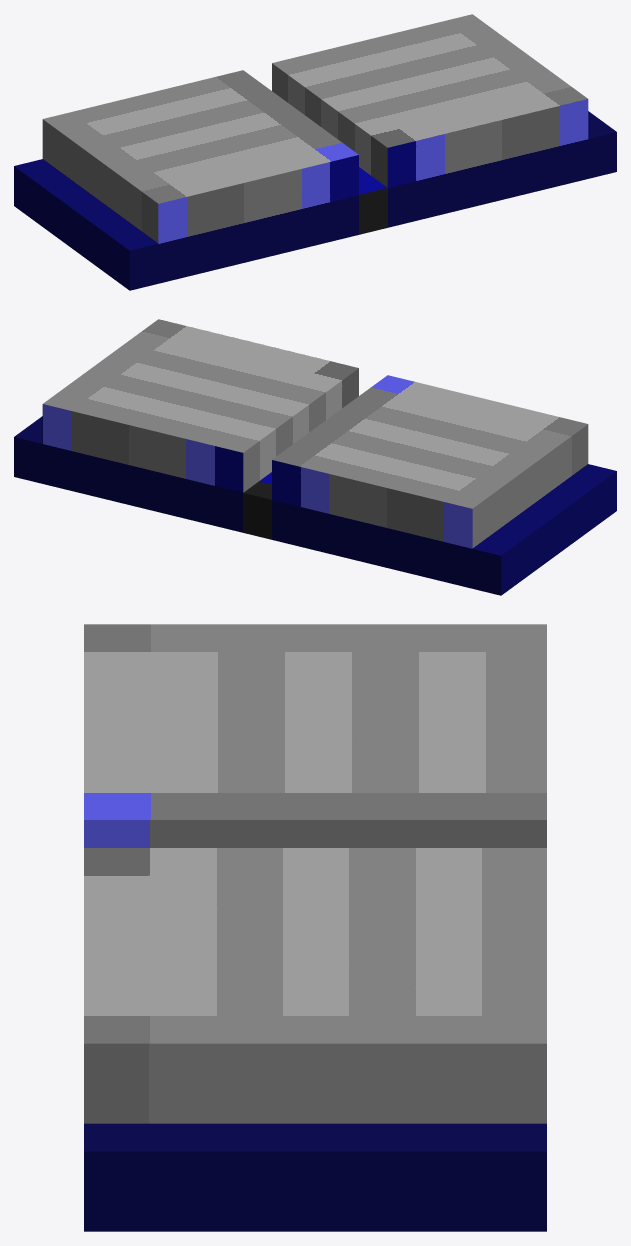
Rendered from book_0x282_24.glb.
3 renders of one model, top to bottom at view 1: azimuth 30°, elevation 25°; view 2: azimuth 150°, elevation 25°; view 3: azimuth 270°, elevation 25°, orthographic. The views are drawn at different scales.
Parts seen in each view (by area): view 1: Cube.001; view 2: Cube.001; view 3: Cube.001.
Part boxes in pixels (<box>): Cube.001: <box>14,14,616,290</box>; Cube.001: <box>14,319,616,595</box>; Cube.001: <box>84,624,546,1231</box>.
Size of the model in its own units: 1.06 by 0.1667 by 0.4375.
Materials: 1 (1 with a texture image).
